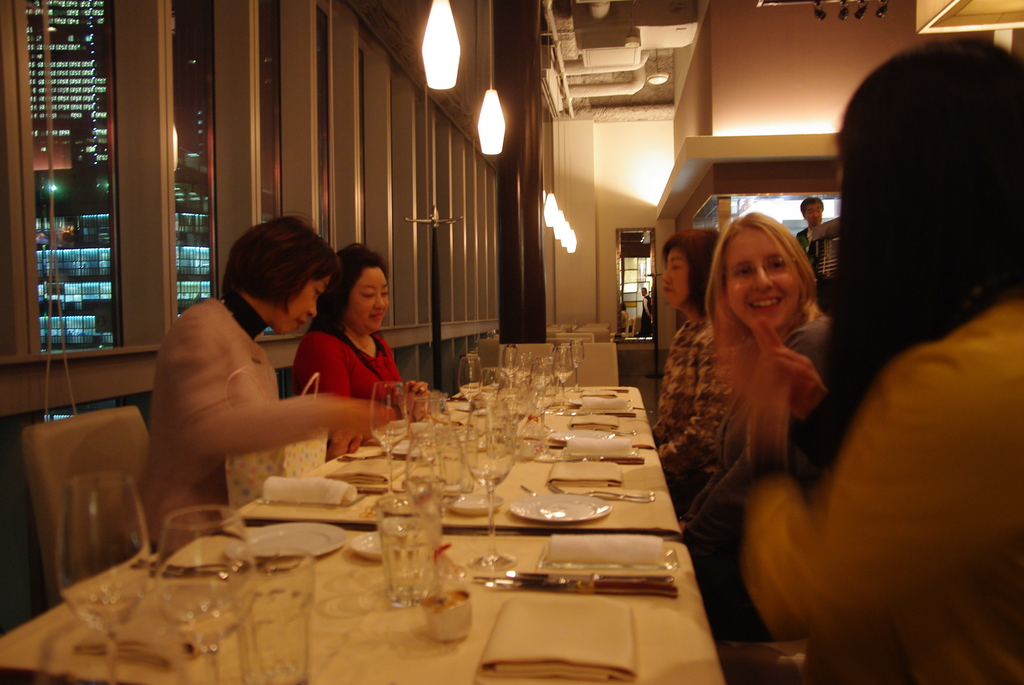Human-face: (723, 225, 802, 326), (275, 274, 332, 331), (347, 267, 388, 331), (664, 245, 692, 303), (803, 203, 823, 229), (641, 286, 648, 298)
